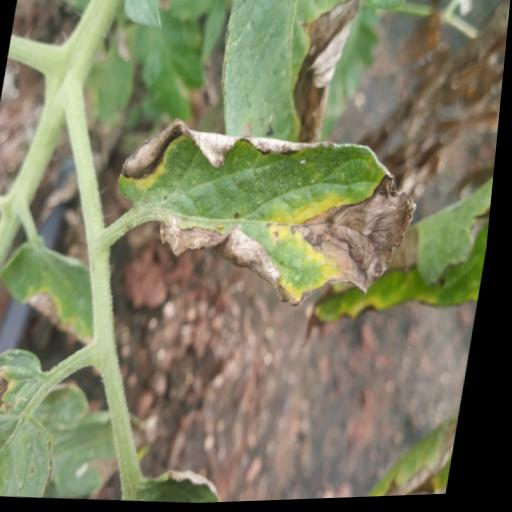Early Blight: (100, 98, 440, 330)
